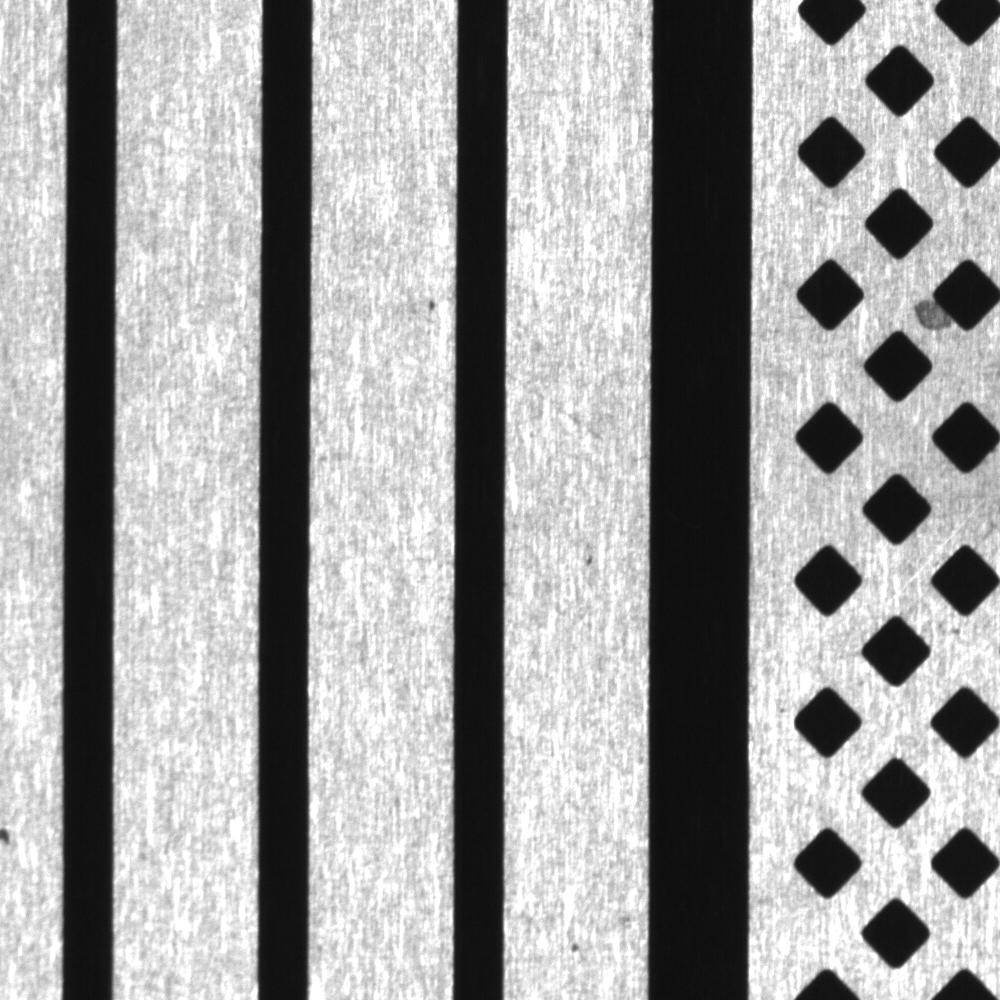Etching: (416, 289, 447, 321), (575, 543, 606, 575), (560, 930, 587, 960)
Scar: (507, 354, 611, 453)
